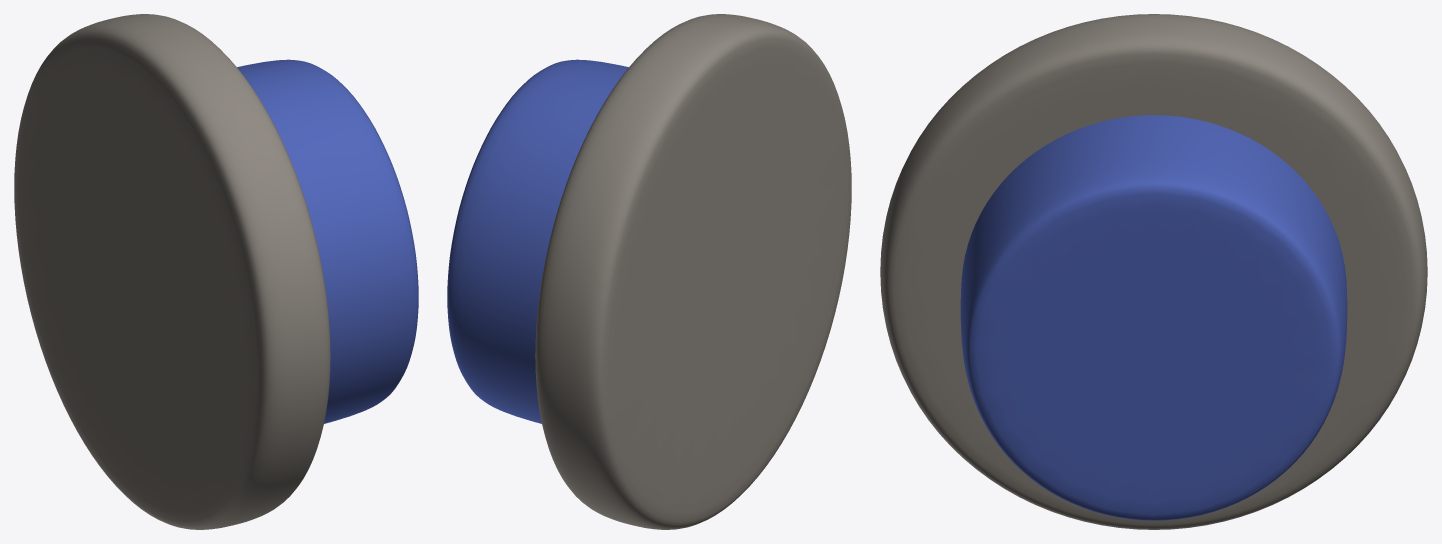
File: Botao.fbx
3 renders of one model, left to right at view 1: azimuth 30°, elevation 25°; view 2: azimuth 150°, elevation 25°; view 3: azimuth 270°, elevation 25°, orthographic. The views are drawn at different scales.
Parts seen in each view (by area): view 1: Botao.001, Botao.002; view 2: Botao.001, Botao.002; view 3: Botao.002, Botao.001.
Part boxes in pixels (x1,y1,x2,y2): Botao.001: (14,14,330,529); Botao.002: (237,59,418,423); Botao.001: (535,14,851,529); Botao.002: (447,59,628,423); Botao.002: (960,115,1347,520); Botao.001: (880,14,1427,529).
Bounding box in the file's own units: 22.08 × 50.88 × 50.88.
